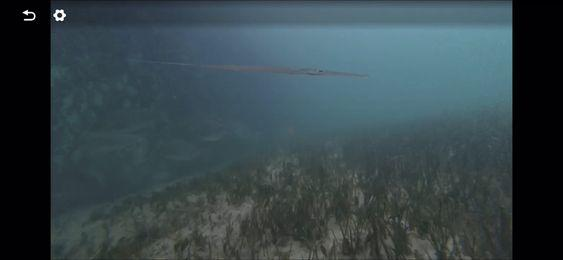Fistularia commersonii: (104, 31, 436, 109)
